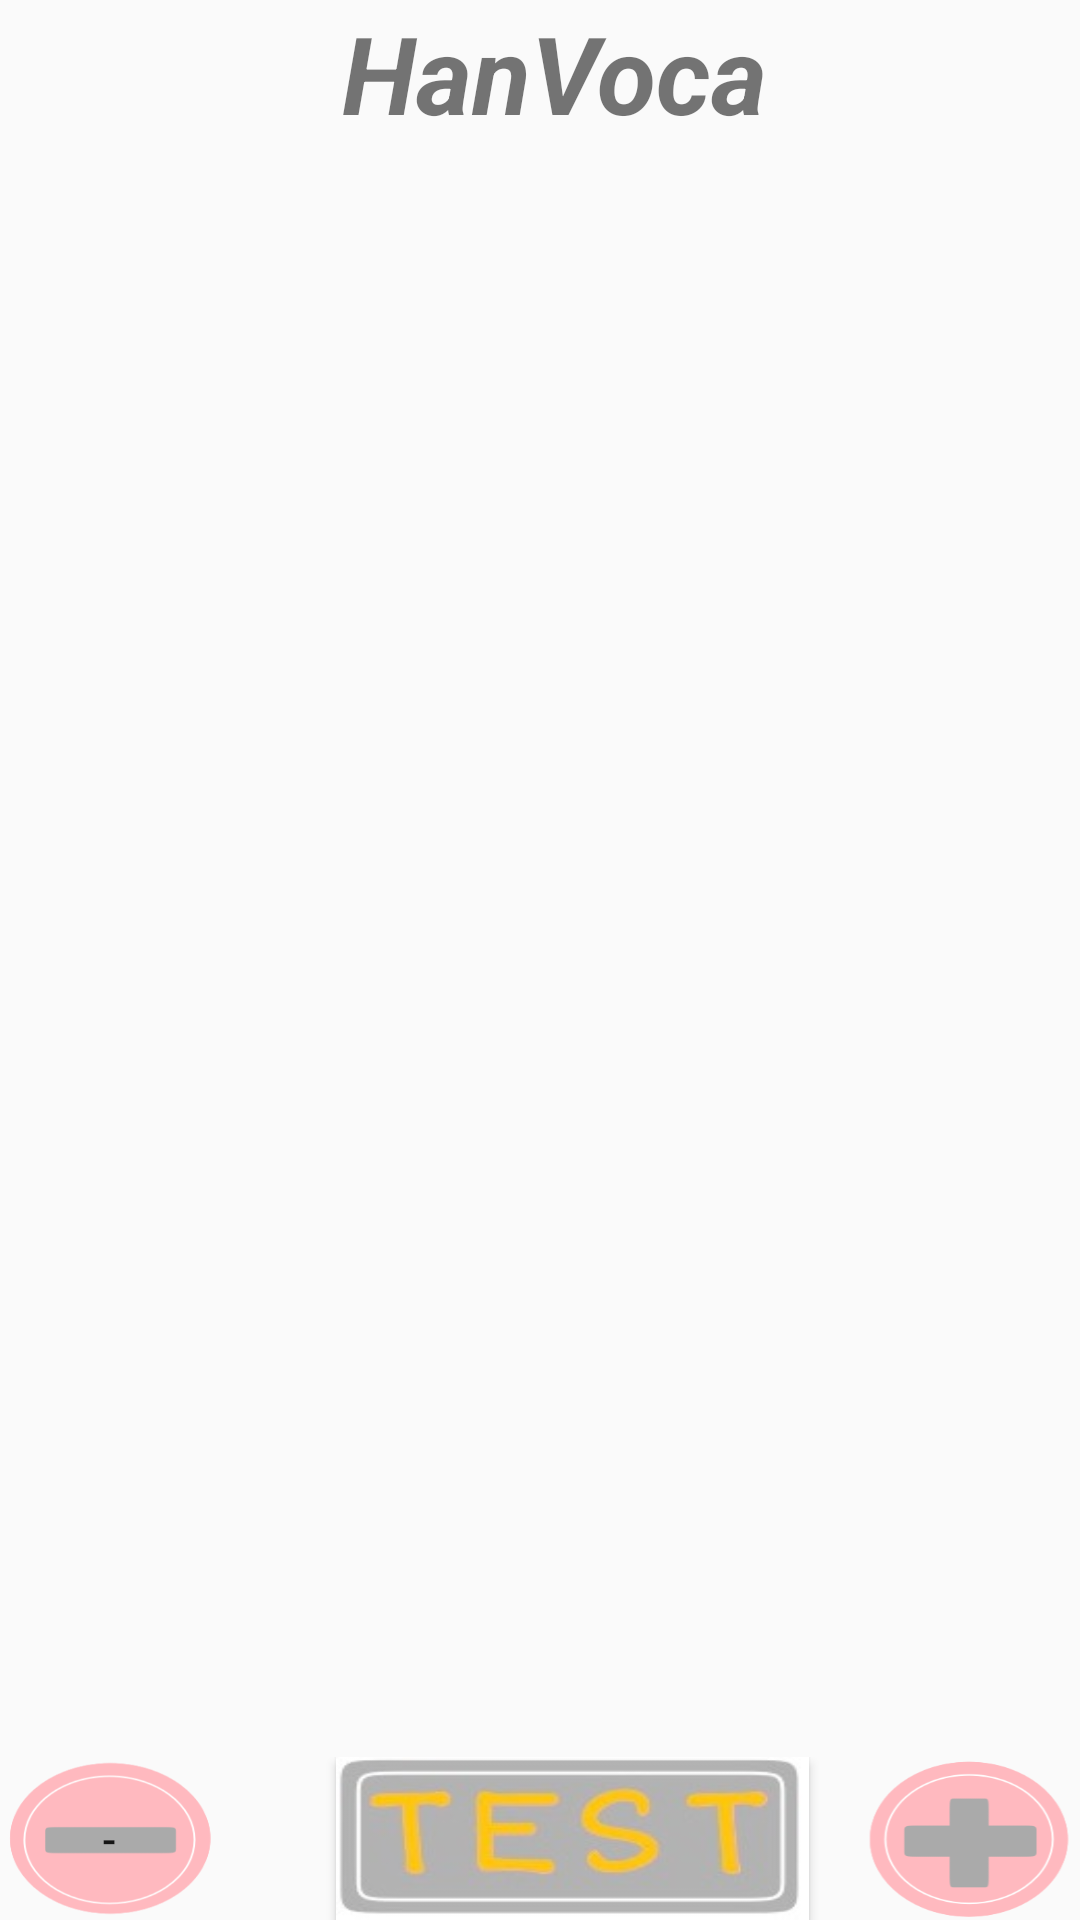

Where to tap for icons on this 1080px×1920px app screen, as [x,y]:
add: [969,1839]
